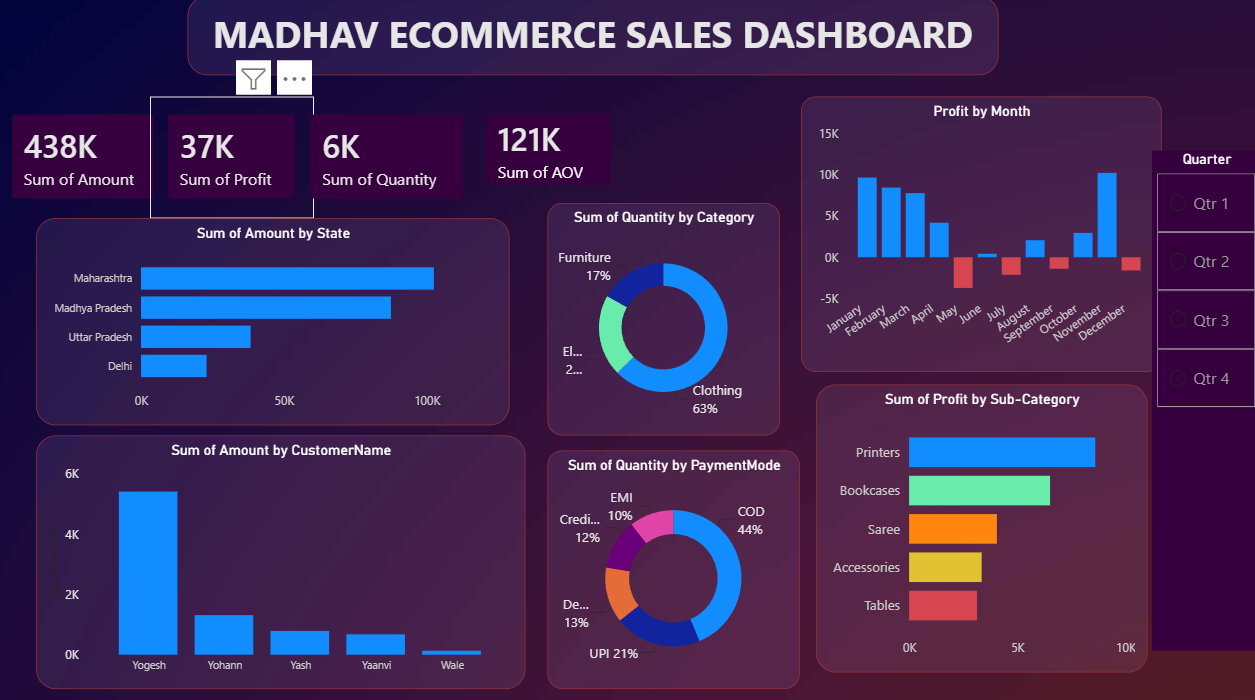

Layout of this report page (visuals, bound fields, positions):
{"tool":"powerbi","page":{"name":"Page 1","canvas":[1280,720],"ordinal":0},"visuals":[{"type":"textbox","box":[195.3,0,818.8,79.7],"z":0},{"type":"clusteredColumnChart","title":" Profit by Month","fields":{"Category":["Orders.Order Date.Variation.Date Hierarchy.Month"],"Y":["Sum(Details.Profit)"]},"box":[814.1,101.6,364.1,278.1],"z":1000},{"type":"barChart","fields":{"Category":["Details.Sub-Category"],"Y":["Sum(Details.Profit)"]},"box":[829.7,392.2,334.4,290.6],"z":2000},{"type":"donutChart","fields":{"Category":["Details.Category"],"Y":["Sum(Details.Quantity)"]},"box":[559.4,209.4,234.4,234.4],"z":3000},{"type":"donutChart","fields":{"Y":["Sum(Details.Quantity)"],"Category":["Details.PaymentMode"]},"box":[559.4,459.4,254.7,240.6],"z":4000},{"type":"cardVisual","fields":{"Data":["Sum(Details.Amount)"]},"box":[0,101.6,179.7,121.9],"z":5000},{"type":"cardVisual","fields":{"Data":["Sum(Details.Profit)"]},"box":[157.8,101.6,164.1,121.9],"z":6000},{"type":"cardVisual","fields":{"Data":["Sum(Details.Quantity)"]},"box":[301.6,101.6,190.6,121.9],"z":7000},{"type":"cardVisual","fields":{"Data":["Sum(Details.AOV)"]},"box":[478.1,101.6,162.5,107.8],"z":8000},{"type":"clusteredColumnChart","fields":{"Category":["Orders.CustomerName"],"Y":["Sum(Details.Amount)"]},"box":[42.2,443.8,493.8,256.2],"z":8001},{"type":"barChart","fields":{"Y":["Sum(Details.Amount)"],"Category":["Orders.State"]},"box":[42.2,223.4,478.1,209.4],"z":8002},{"type":"listSlicer","fields":{"Values":["Orders.Order Date.Variation.Date Hierarchy.Quarter"]},"box":[1168.8,156.2,110.9,504.7],"z":8003}]}

Visuals, with their boxes in screenshot pixels (x1, y1, x2, y2), scaled from the page's 1280x720 canvas onto the 1255x700 screenshot:
textbox: detection(191, 0, 994, 77)
" Profit by Month" clusteredColumnChart: detection(798, 99, 1155, 369)
barChart - Details.Sub-Category x Sum(Details.Profit): detection(813, 381, 1141, 664)
donutChart - Details.Category x Sum(Details.Quantity): detection(548, 204, 778, 431)
donutChart - Sum(Details.Quantity) x Details.PaymentMode: detection(548, 447, 798, 681)
cardVisual - Sum(Details.Amount): detection(0, 99, 176, 217)
cardVisual - Sum(Details.Profit): detection(155, 99, 316, 217)
cardVisual - Sum(Details.Quantity): detection(296, 99, 483, 217)
cardVisual - Sum(Details.AOV): detection(469, 99, 628, 204)
clusteredColumnChart - Orders.CustomerName x Sum(Details.Amount): detection(41, 431, 526, 681)
barChart - Sum(Details.Amount) x Orders.State: detection(41, 217, 510, 421)
listSlicer - Orders.Order Date.Variation.Date Hierarchy.Quarter: detection(1146, 152, 1254, 643)
